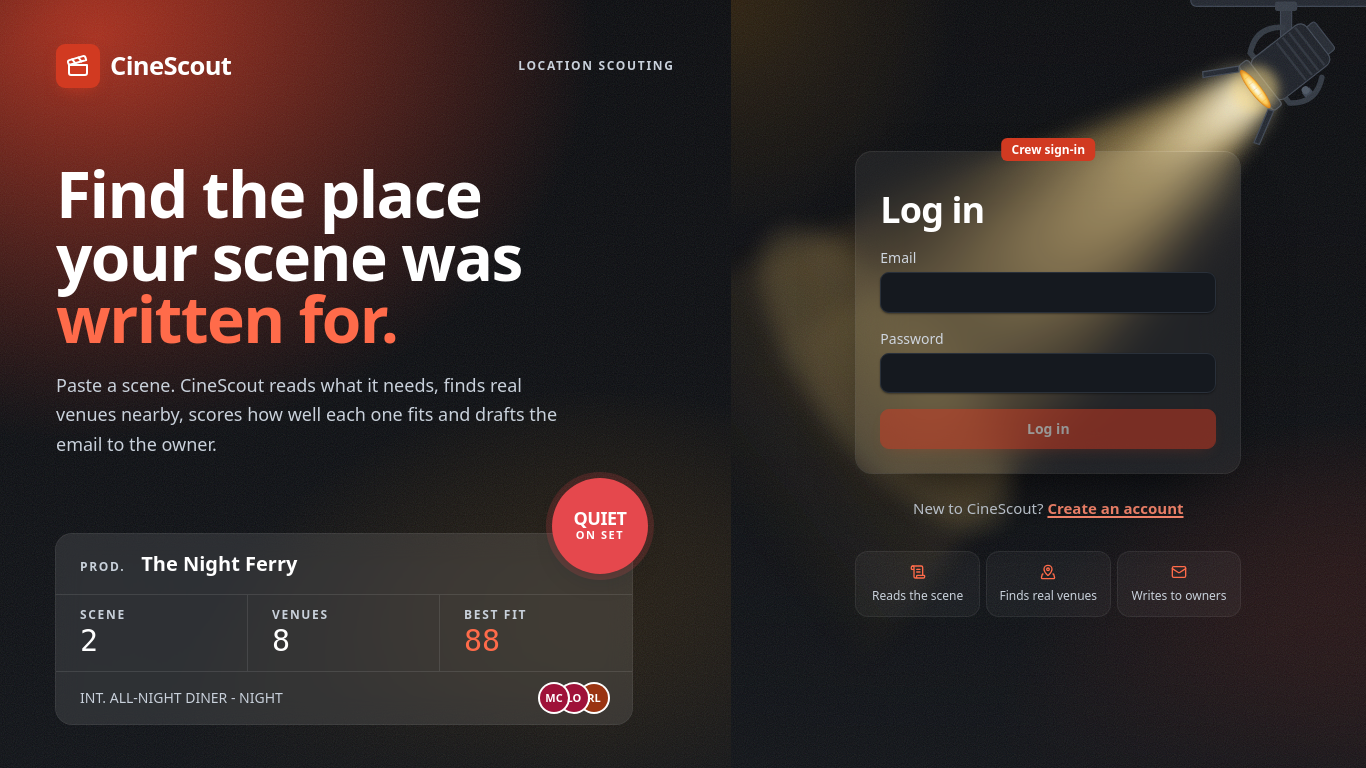
Test: the crew page › changes a role and hands ownership over
In the field labelled "Email": (1048,293) [880, 272, 1216, 313], type "ada@example.com"
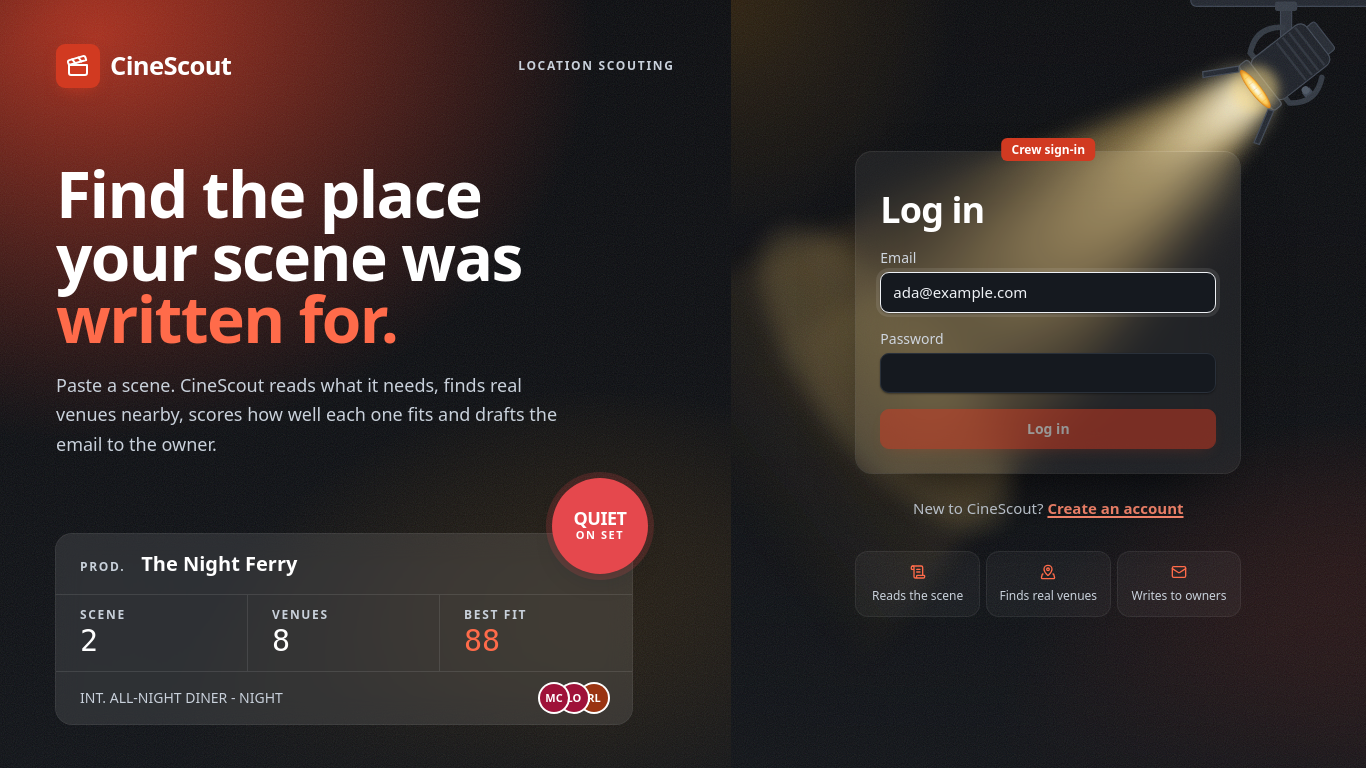
In the password field labelled "Password": (1048,373) [880, 353, 1216, 393], type "a-long-password"
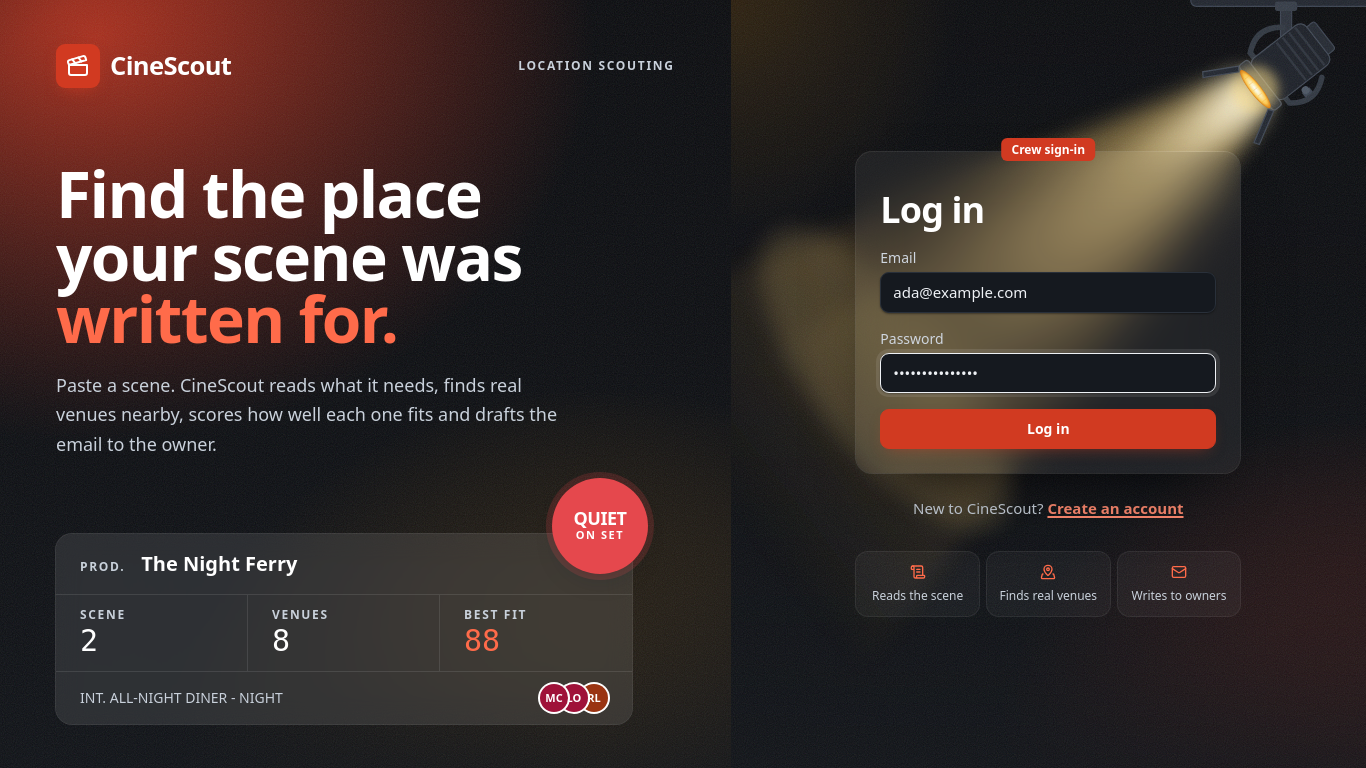
Click the button "Log in": (1048,429) [880, 409, 1216, 449]
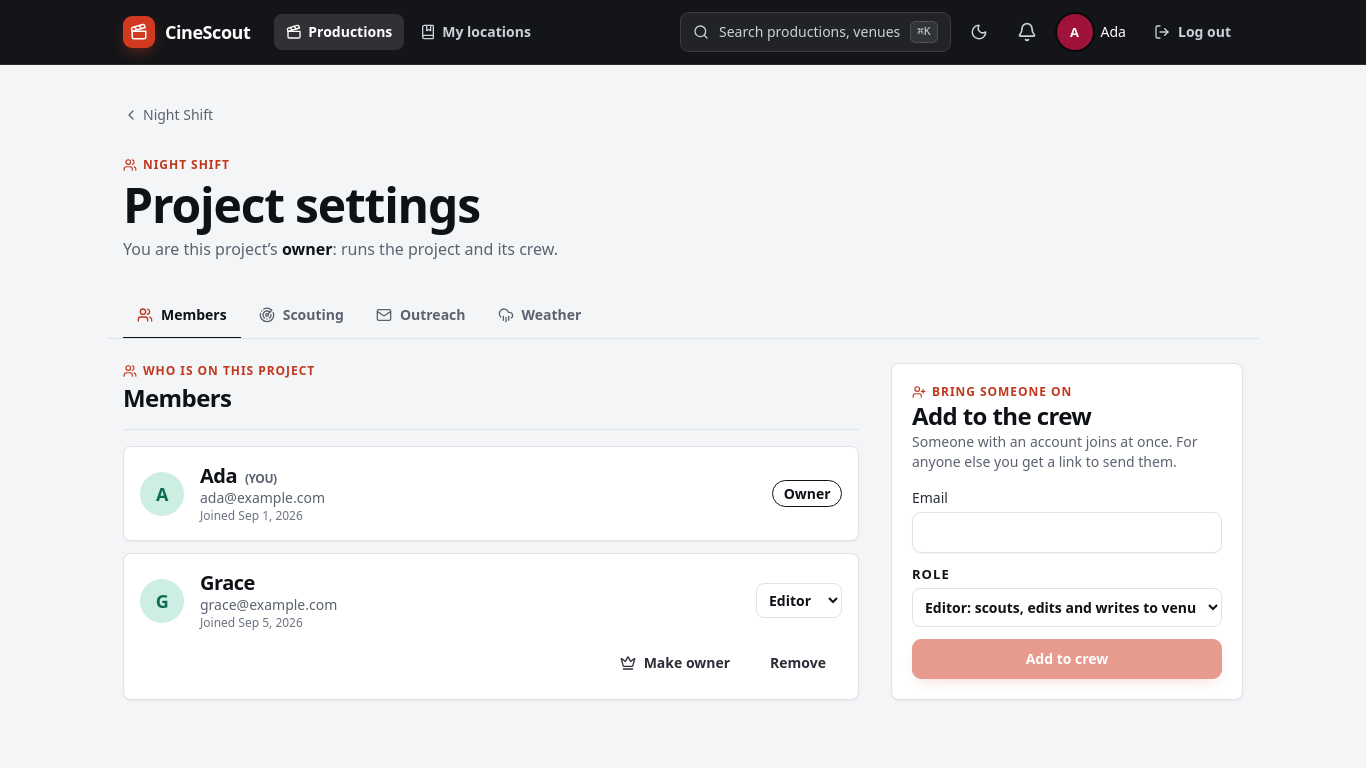
Select "Viewer" in the dropdown named "Role of Grace": (799,600) [756, 583, 842, 618]
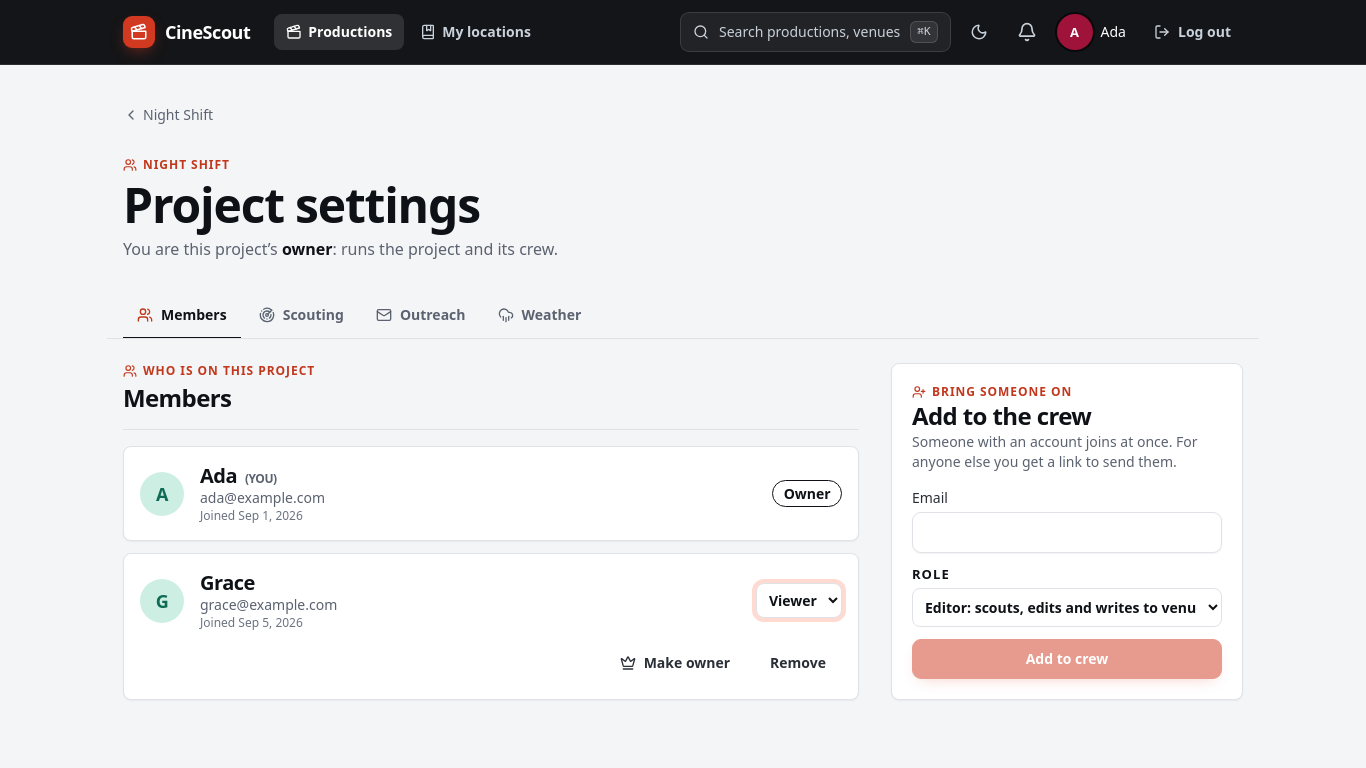
Click the button "Make owner": (675,663) [604, 643, 746, 683]
(page scrolled)
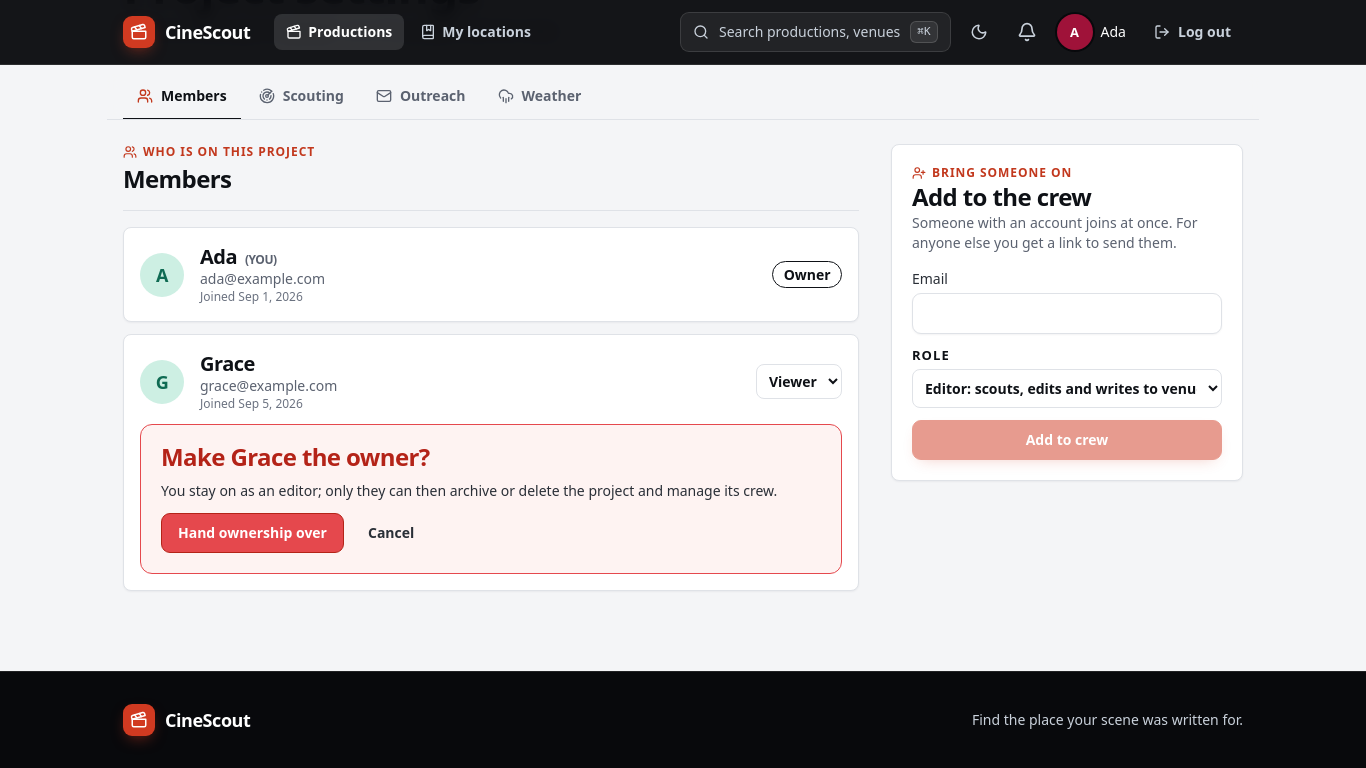
Click the button "Hand ownership over": (252,533) [161, 513, 344, 553]
(page scrolled)
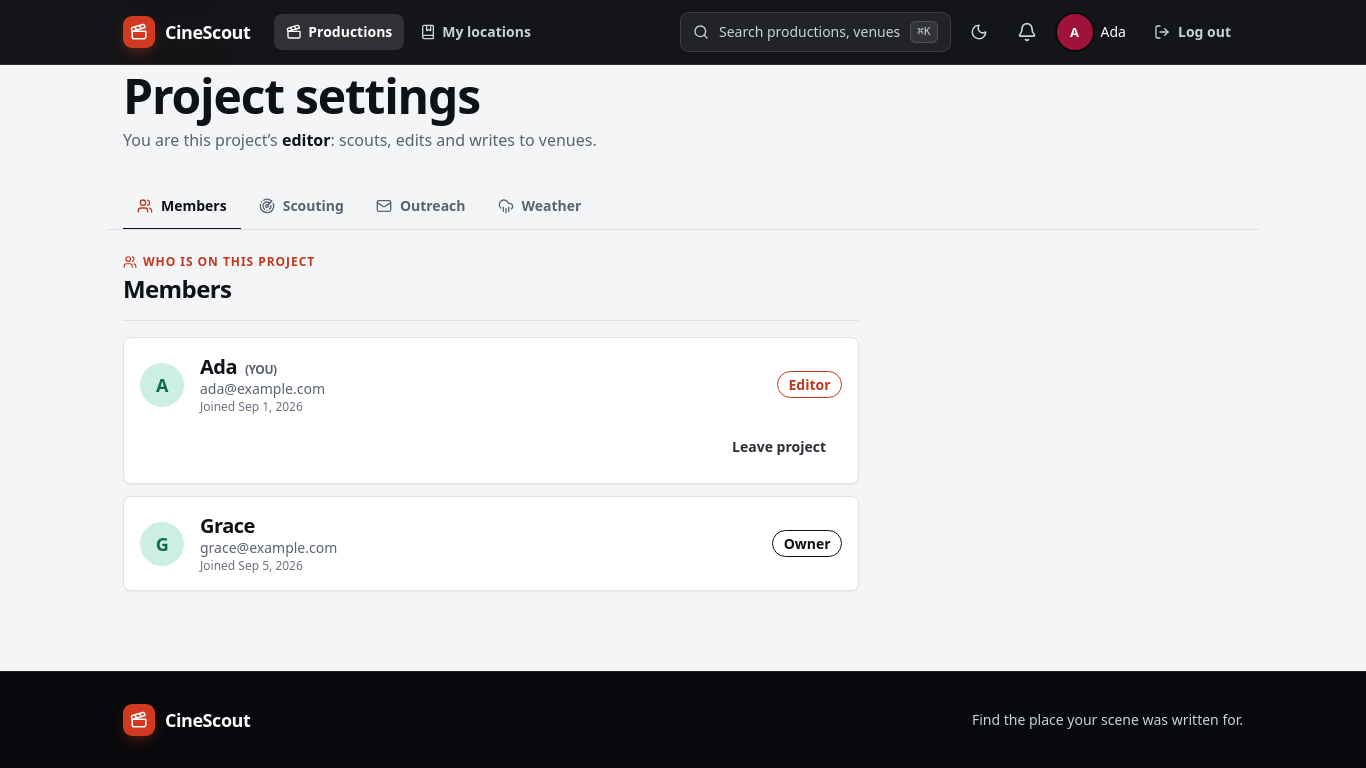
Expected: the dropdown labelled "Role of Grace" is not shown
Expected: the text "You are this project’s" shows "You are this project’s editor", [123, 129, 597, 151]
Expected: the button "Add to crew" is gone
